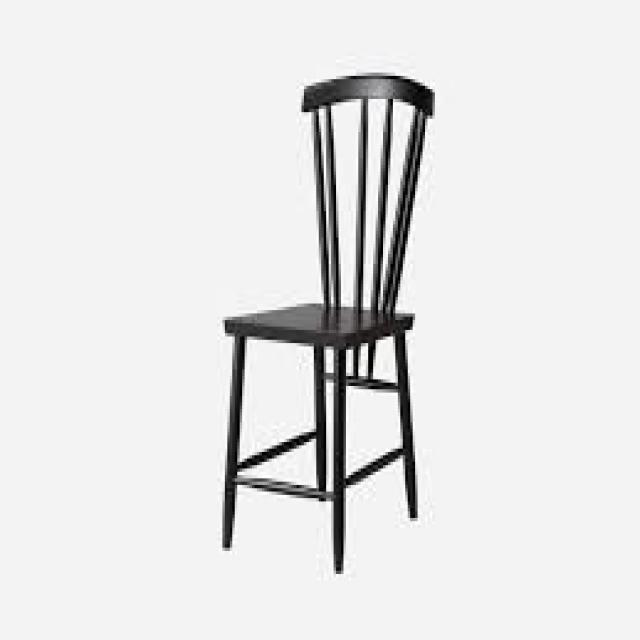chair: (160, 61, 484, 592)
